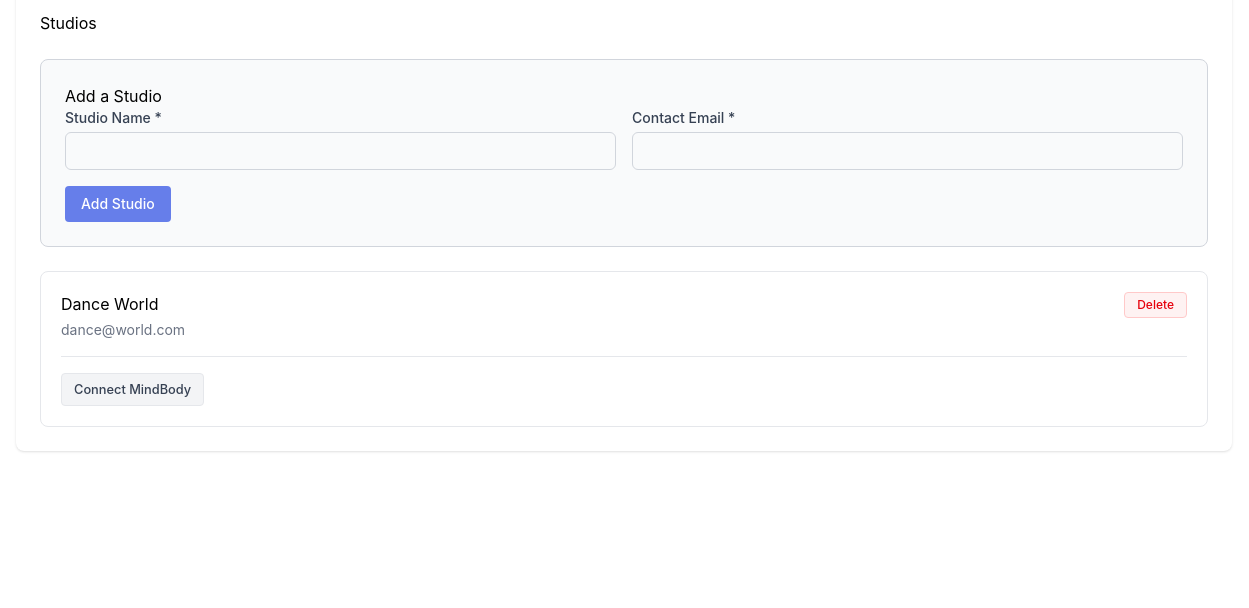
it: StudioPage › should show the MindBody connect form when Connect MindBody is clicked
Expected: the heading "Dance World" is shown, [61,294,158,314]
What coordinates should you click on to do the following:
click the button "Connect MindBody"
I would click on:
 (133, 390)
Its box is [61,373,204,406].
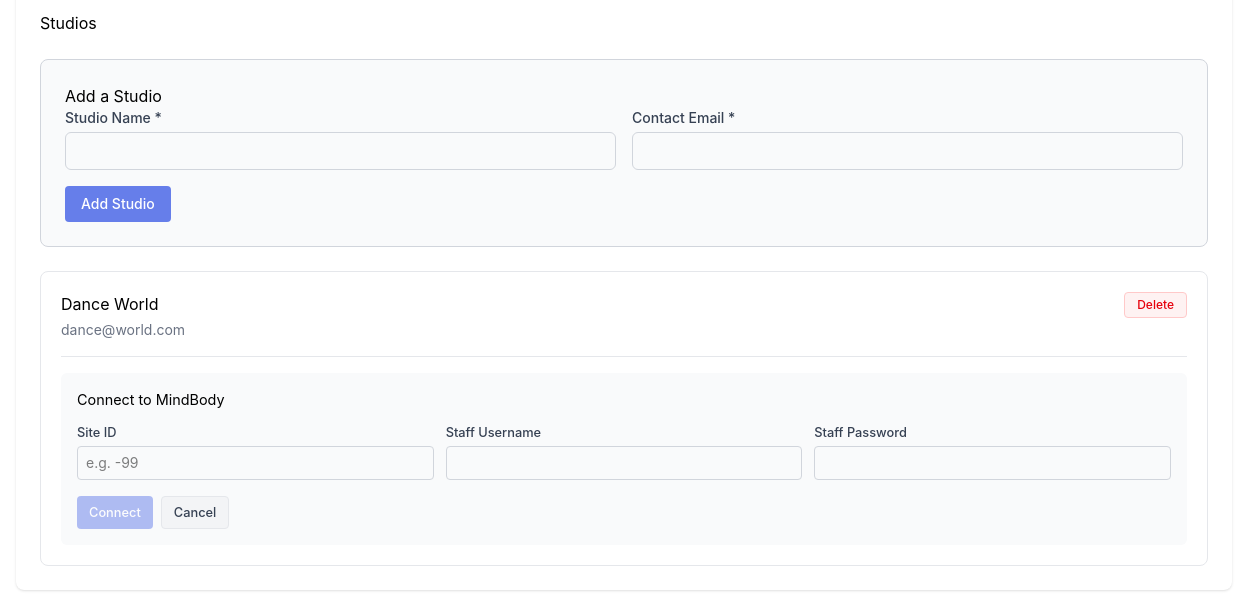
Result: the heading "Connect to MindBody" is shown at [77,391,225,408]
Result: the field with placeholder "e.g. -99" is shown at [77,446,434,480]
Result: the button "Connect" is shown at [77,496,153,529]
